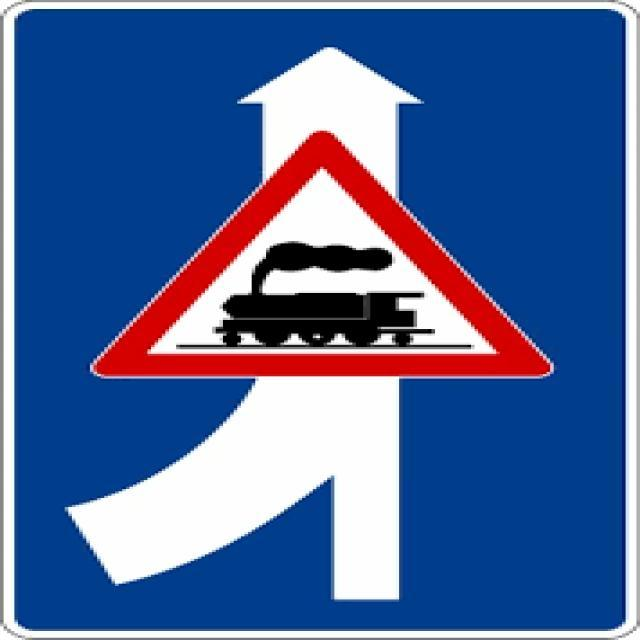unguarded level crossing: (80, 125, 558, 389)
